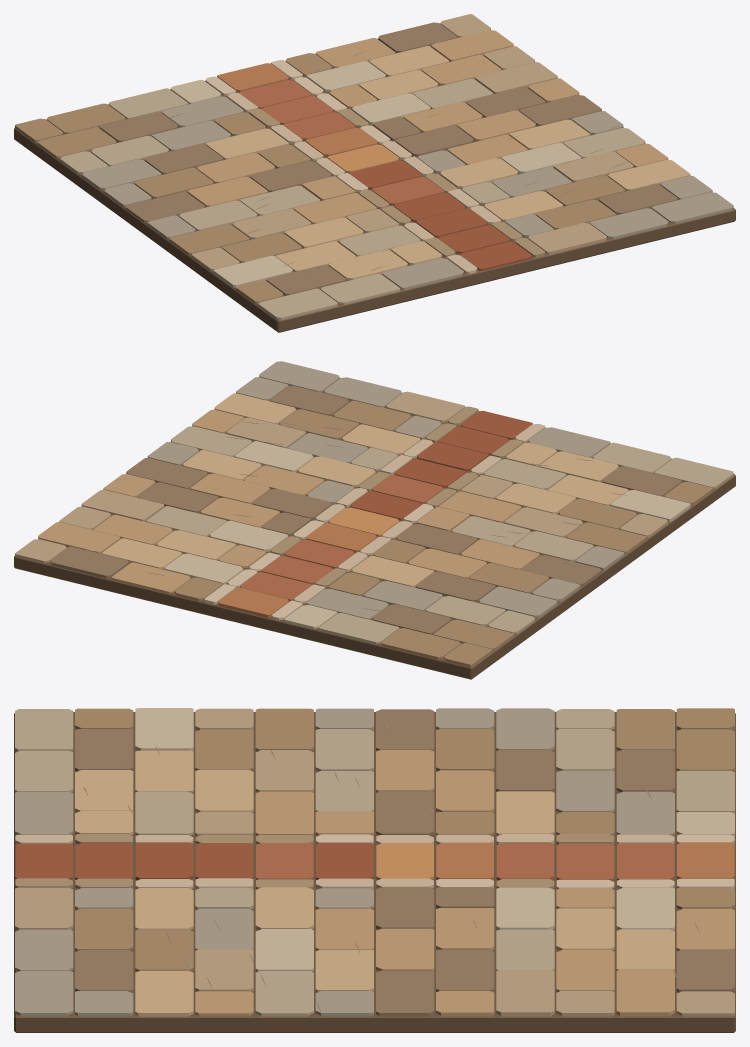
The model's file is wsc-arch-005-plaza-paving-kit.glb.
The picture shows the model from 3 angles, top to bottom: view 1: azimuth 30°, elevation 25°; view 2: azimuth 150°, elevation 25°; view 3: azimuth 270°, elevation 25°; orthographic projection. The views are drawn at different scales.
Parts seen in each view (by area): view 1: Plaza paving kit; view 2: Plaza paving kit; view 3: Plaza paving kit.
Boxes of the visible parts, bbox=[...] form: Plaza paving kit: bbox=[14, 14, 735, 332]; Plaza paving kit: bbox=[14, 361, 735, 679]; Plaza paving kit: bbox=[14, 708, 735, 1032].
Bounding box in the file's own units: 4.8 × 0.156 × 4.8.
